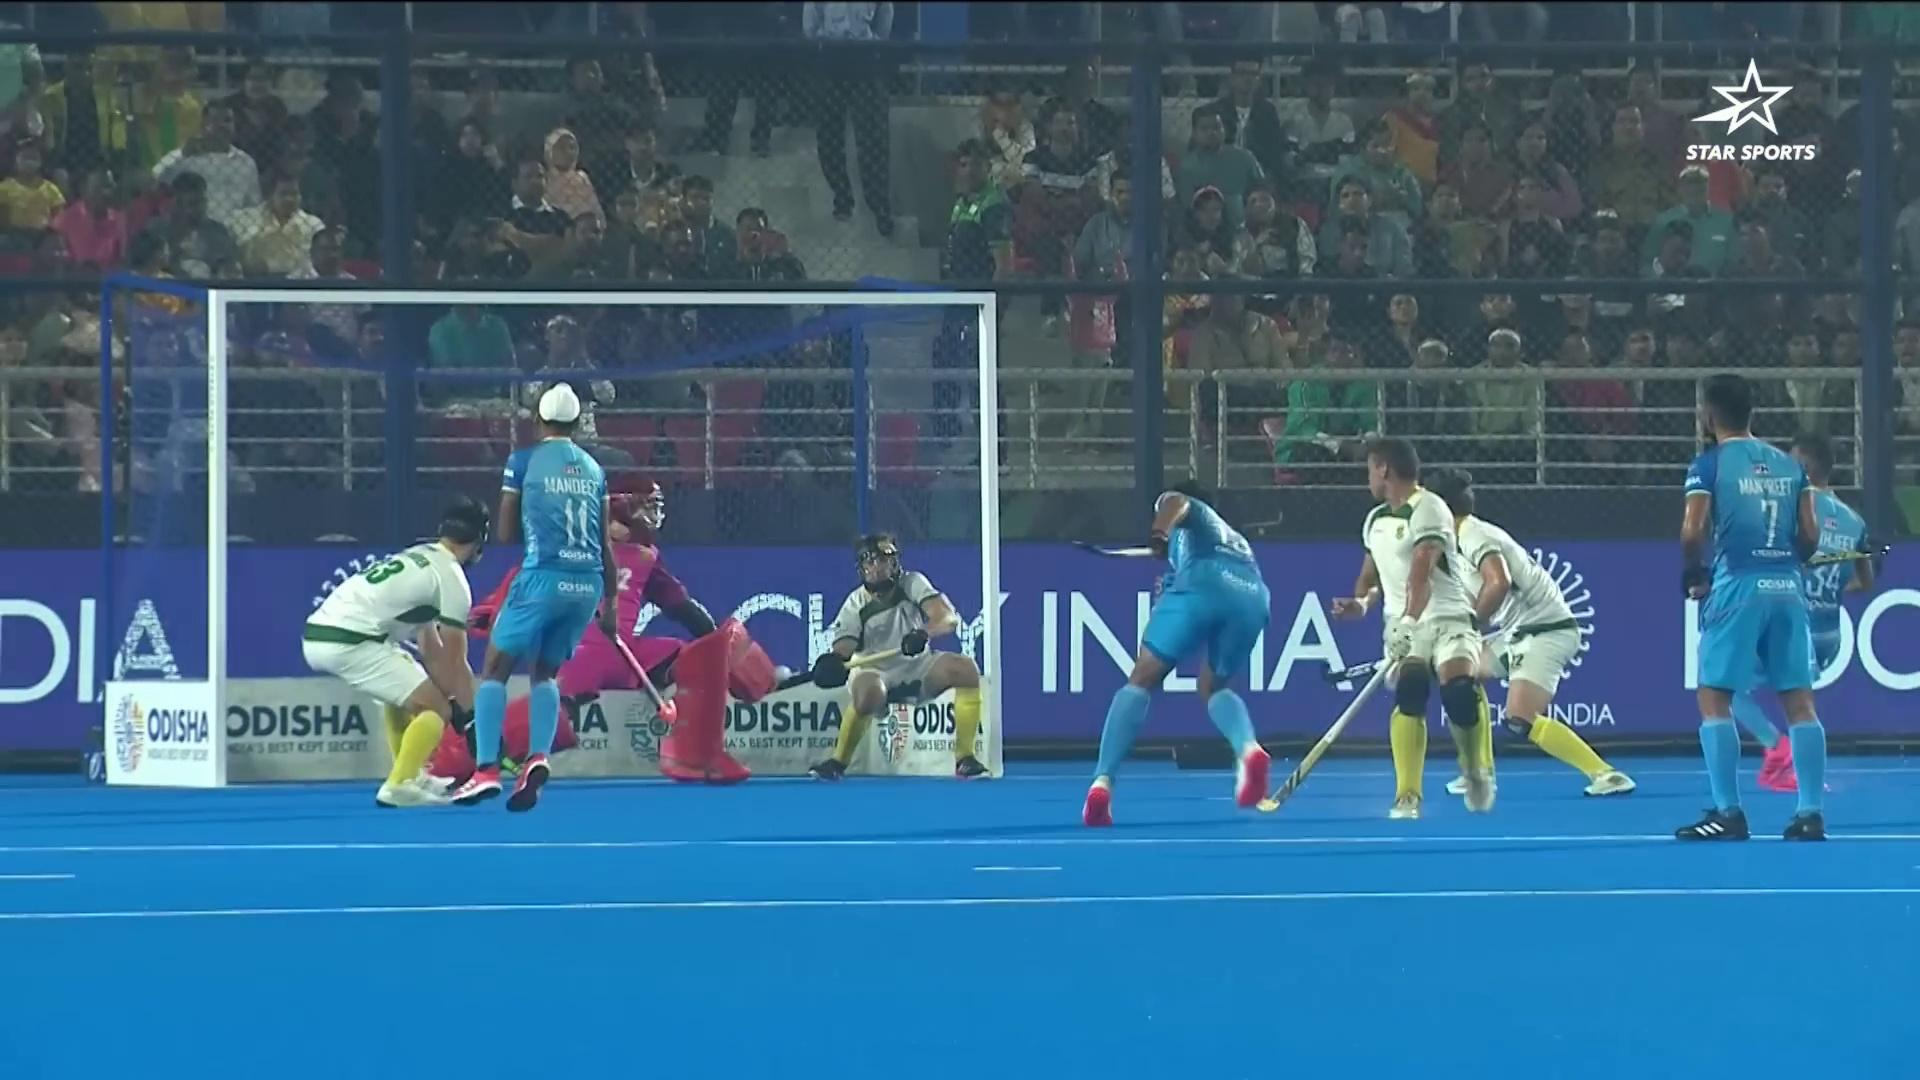ball: (766, 658, 799, 684)
